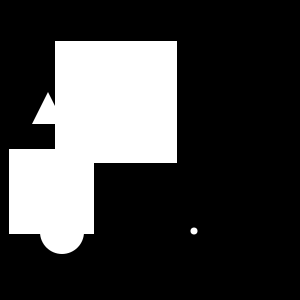circle: (55, 41, 177, 163), (9, 149, 94, 234)
rectangle: (40, 210, 84, 254), (190, 228, 198, 235)
triangle: (32, 92, 64, 124)
